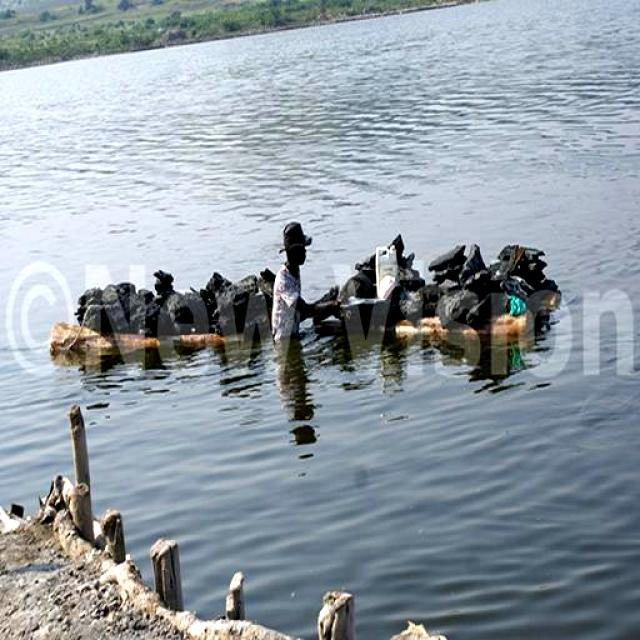civilian: (249, 195, 333, 383)
